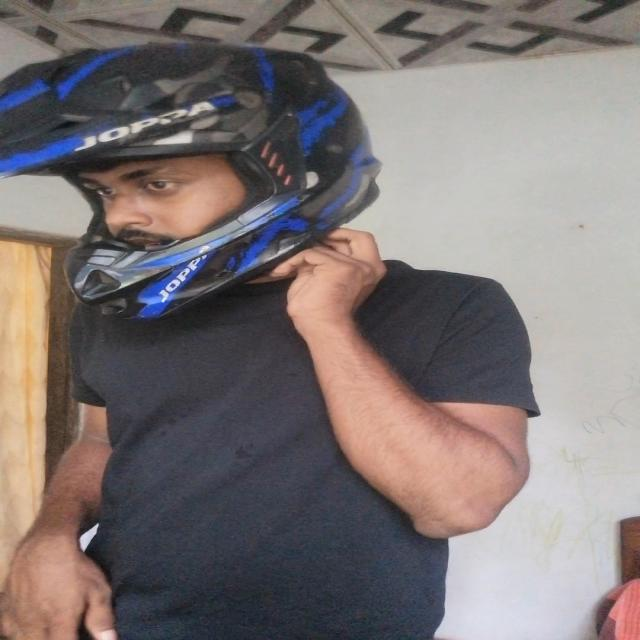Helmet_Wearer: (8, 39, 391, 334)
Person: (7, 32, 529, 640)
